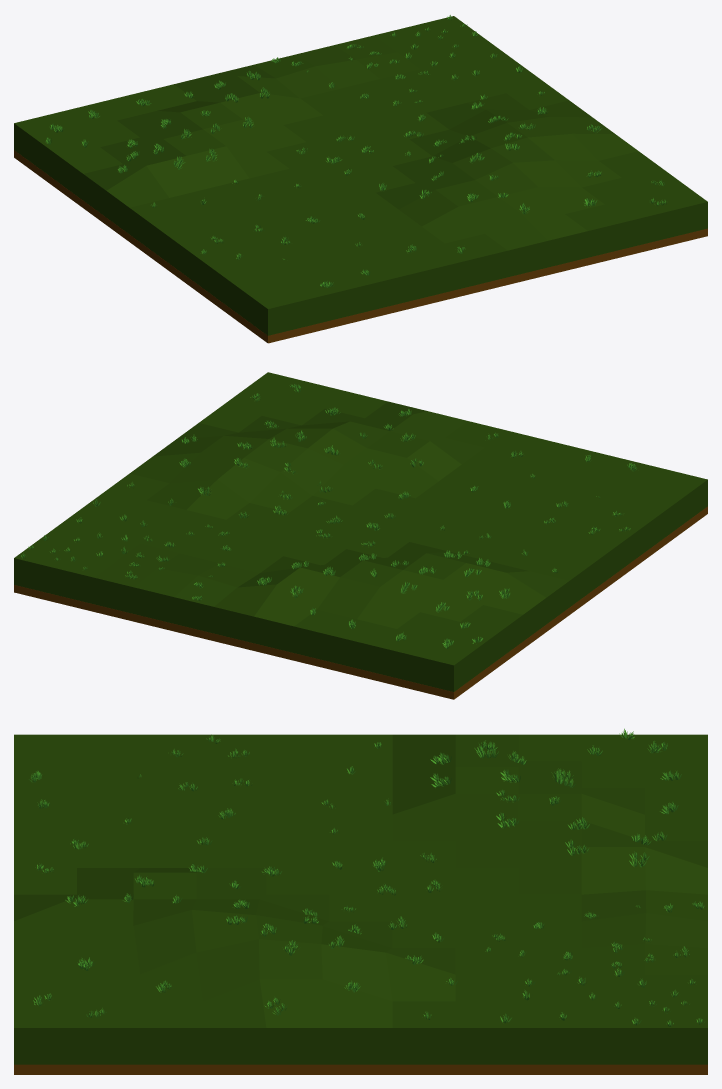
File: forest.fbx
3 views of the same model, one above another, from view 1: azimuth 30°, elevation 25°; view 2: azimuth 150°, elevation 25°; view 3: azimuth 270°, elevation 25° (orthographic). The views are drawn at different scales.
Visible parts, largest first — view 1: Plane.003, Circle; view 2: Plane.003, Circle; view 3: Plane.003, Circle.
Part boxes in pixels (x1,y1,x2,y2): Plane.003: (14,16,707,343); Circle: (45,15,667,287); Plane.003: (14,372,707,699); Circle: (21,383,636,648); Plane.003: (14,734,707,1074); Circle: (29,728,705,1026).
Bounding box in the file's own units: 2486 × 333 × 2486.
